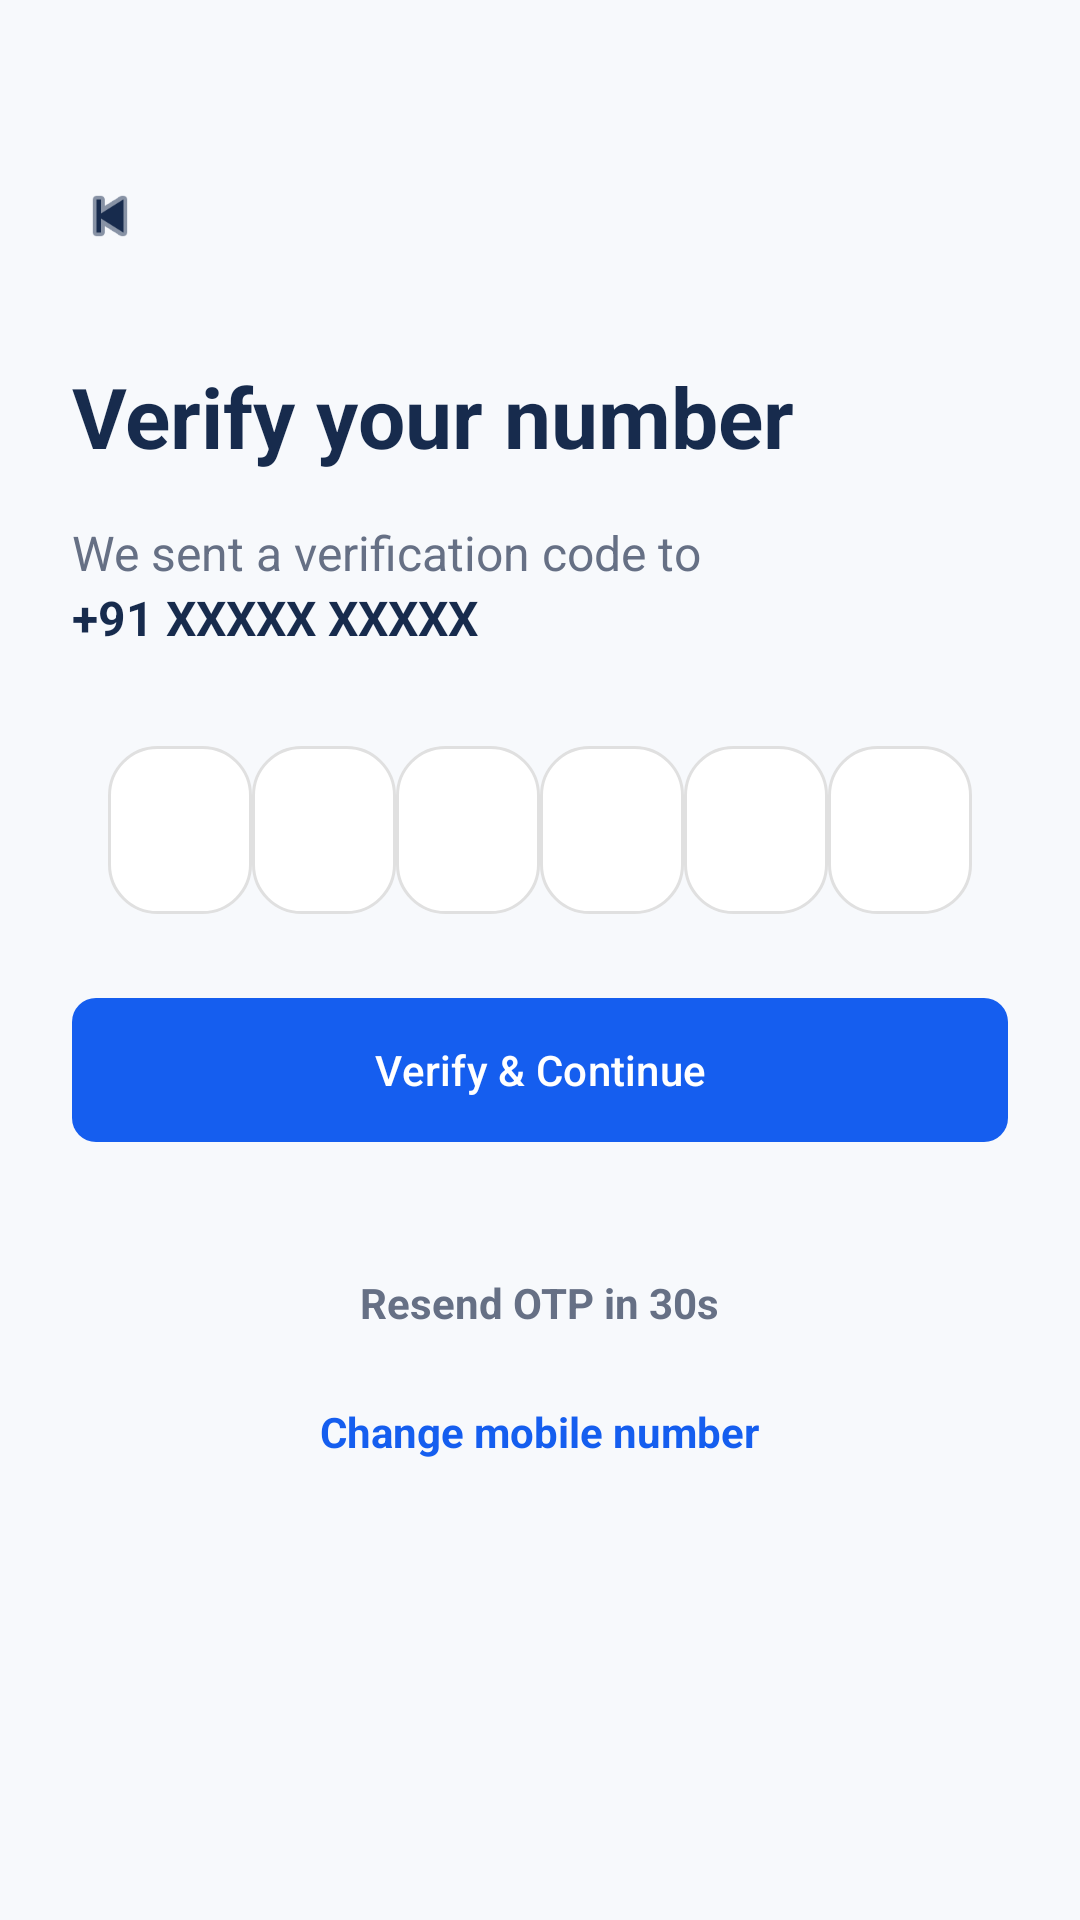

Locate icon controls on the screen. Image size 1080 × 1920, boxes as (x1, y1, x2, y2).
Go back: (93, 196, 127, 236)
